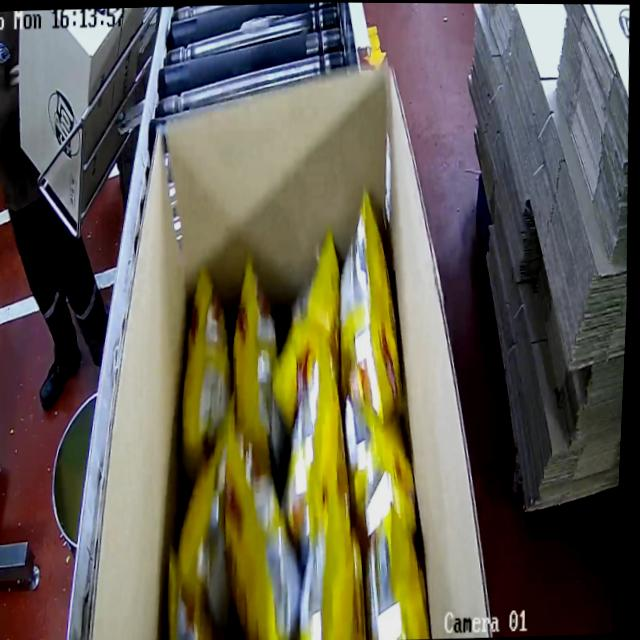SALTED: (165, 191, 450, 640)
